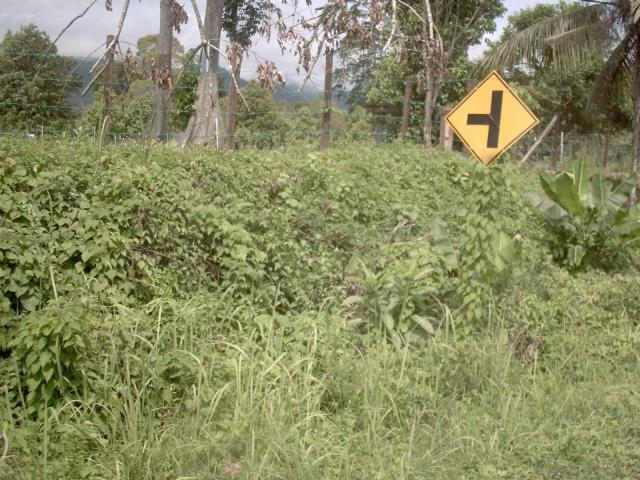traffic_sign: (438, 60, 546, 175)
